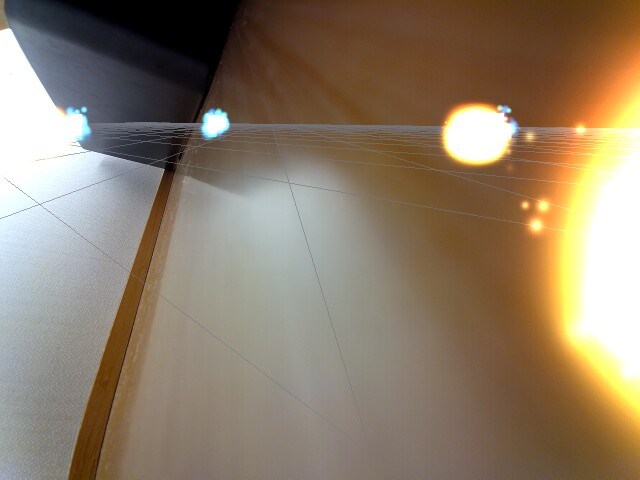firebig: (569, 52, 640, 437)
